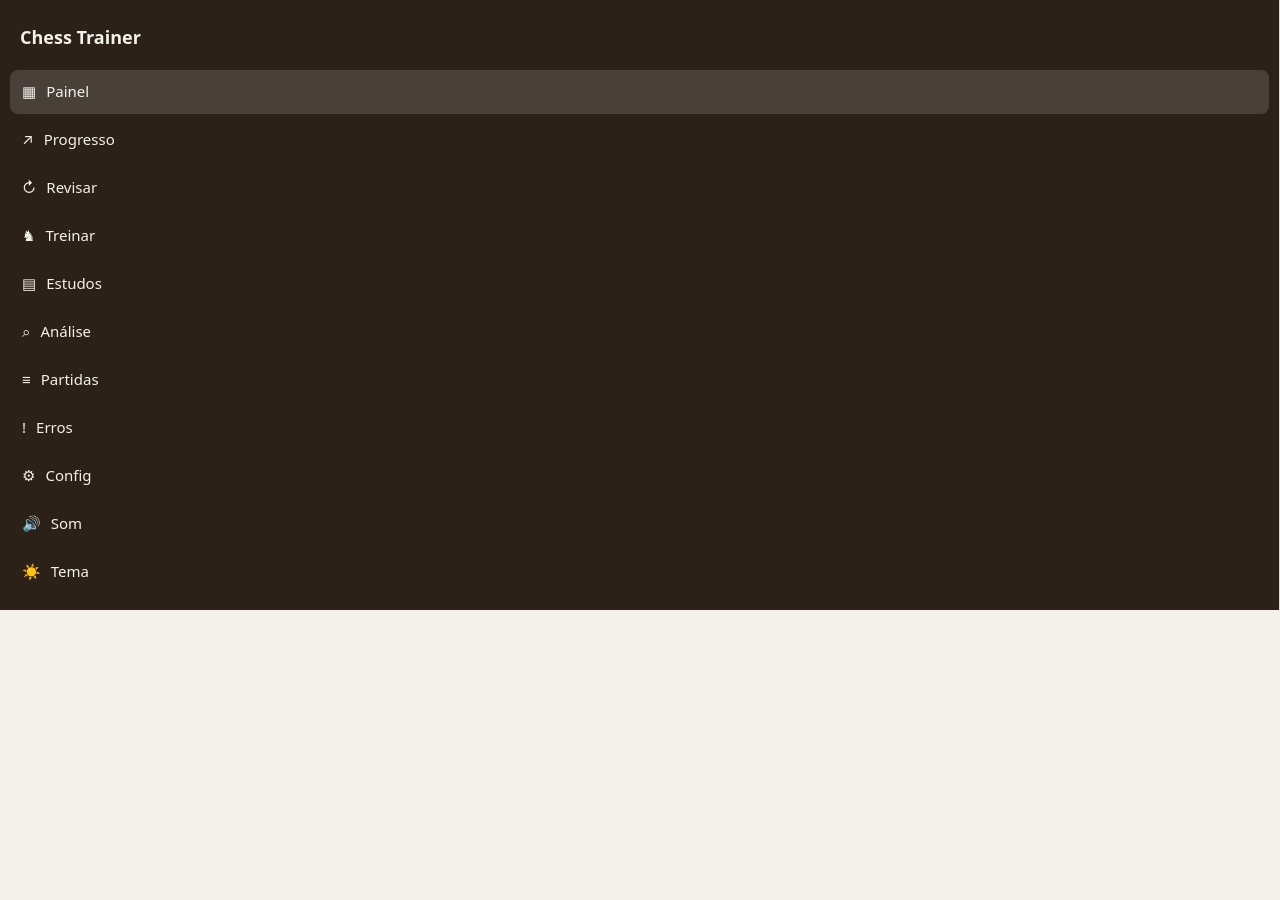
Test: clicar liga o tema escuro, troca o rótulo e guarda a escolha
The width and height of the screenshot is (1280, 900).
Step 1. Click the button with aria-label "Tema claro" → {"x": 70, "y": 571}, box [10, 550, 1269, 594]
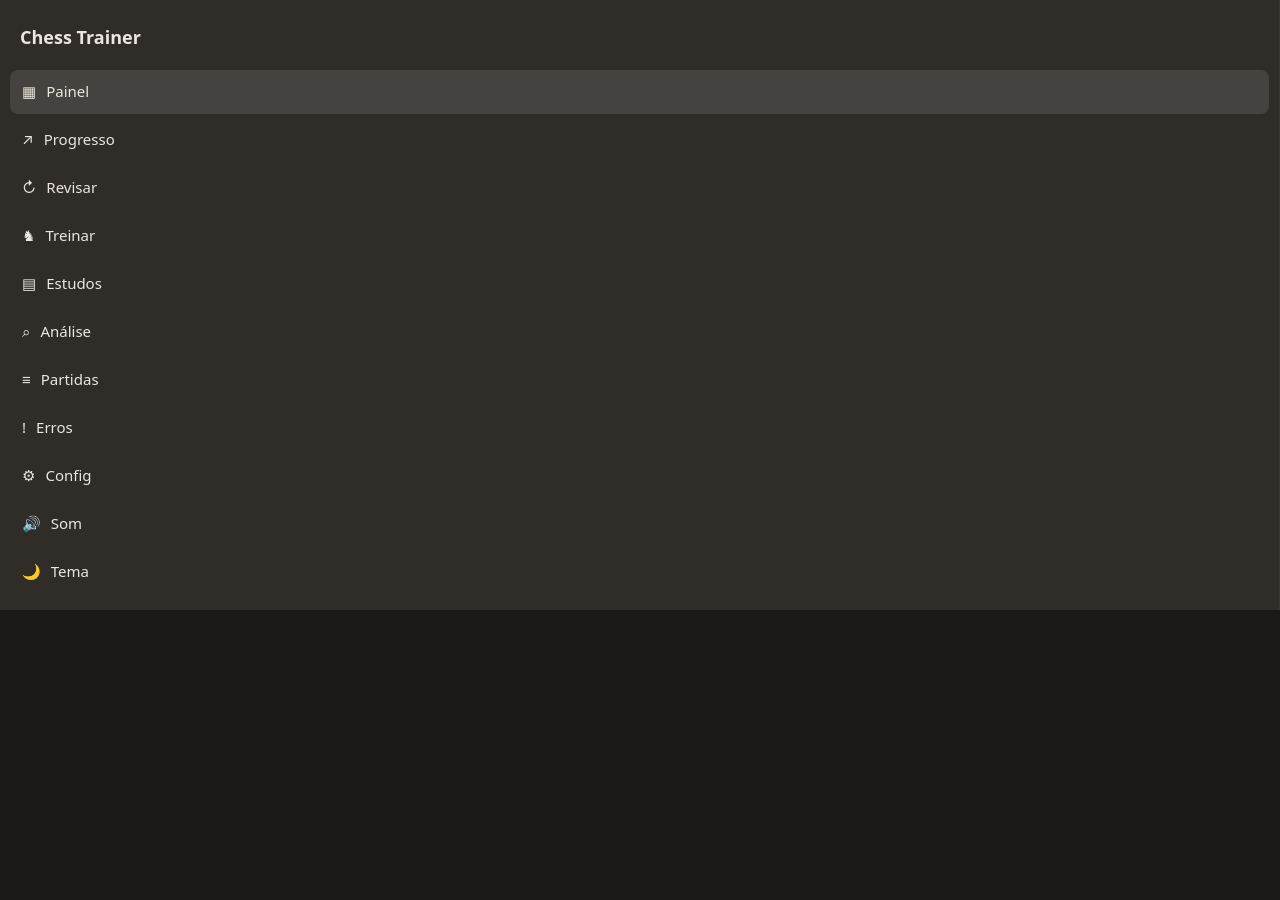
Expected: the button with aria-label "Tema escuro" shows "🌙", [10, 550, 1269, 594]
